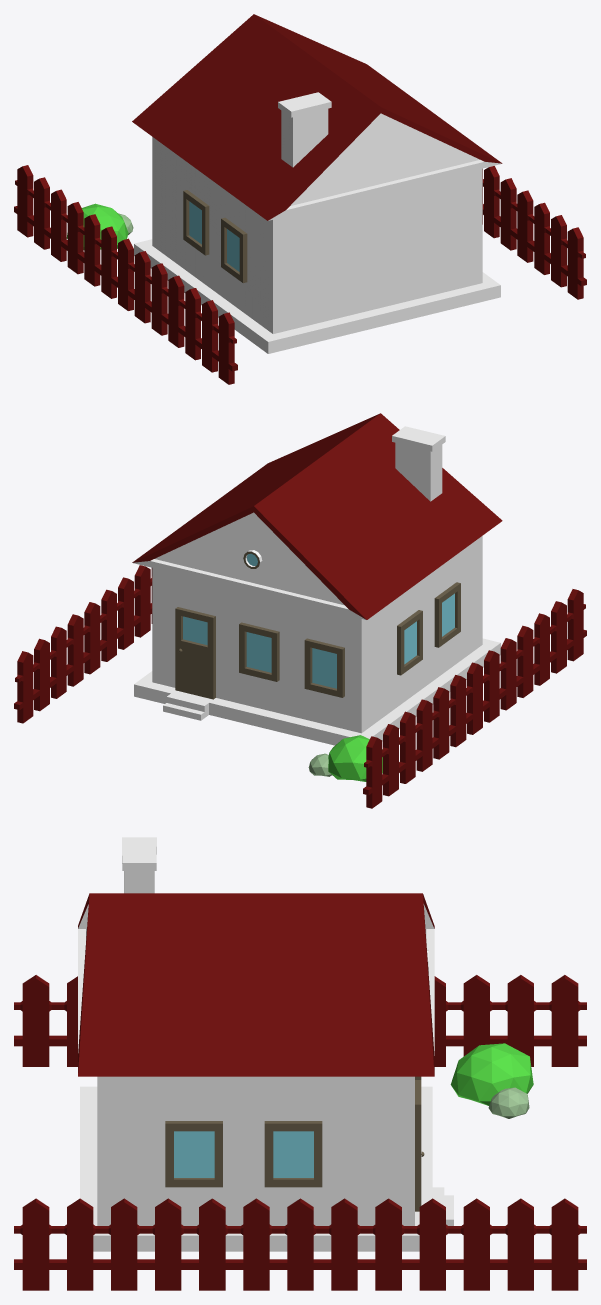
File: house_single.glb
3 renders of one model, top to bottom at view 1: azimuth 30°, elevation 25°; view 2: azimuth 150°, elevation 25°; view 3: azimuth 270°, elevation 25°, orthographic. The views are drawn at different scales.
Visible parts, largest first — view 1: House-single; view 2: House-single; view 3: House-single.
Part boxes in pixels (left/top/right/bottom): House-single: left=14, top=14, right=586, bottom=384; House-single: left=14, top=413, right=586, bottom=808; House-single: left=14, top=837, right=586, bottom=1290.
Bounding box in the file's own units: 6.1 × 3.67 × 6.5.
1 material, 1 textured.
